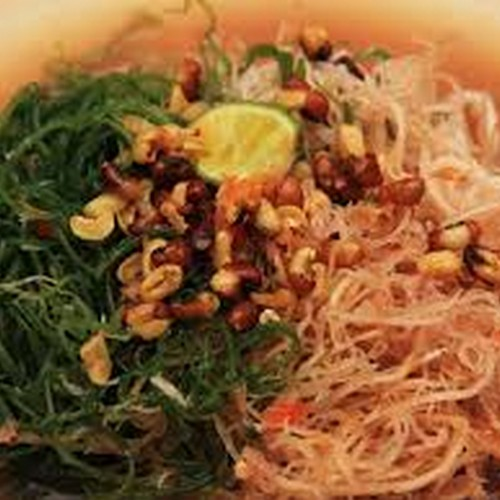serombotan: (13, 175, 489, 489)
